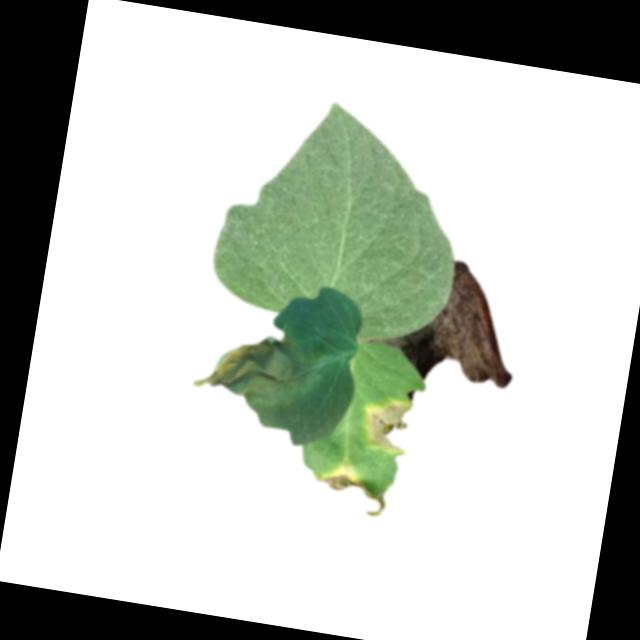Late_blight: (360, 247, 532, 395), (189, 322, 314, 411), (357, 396, 414, 457), (311, 455, 383, 500)
healthy: (205, 88, 479, 352)
